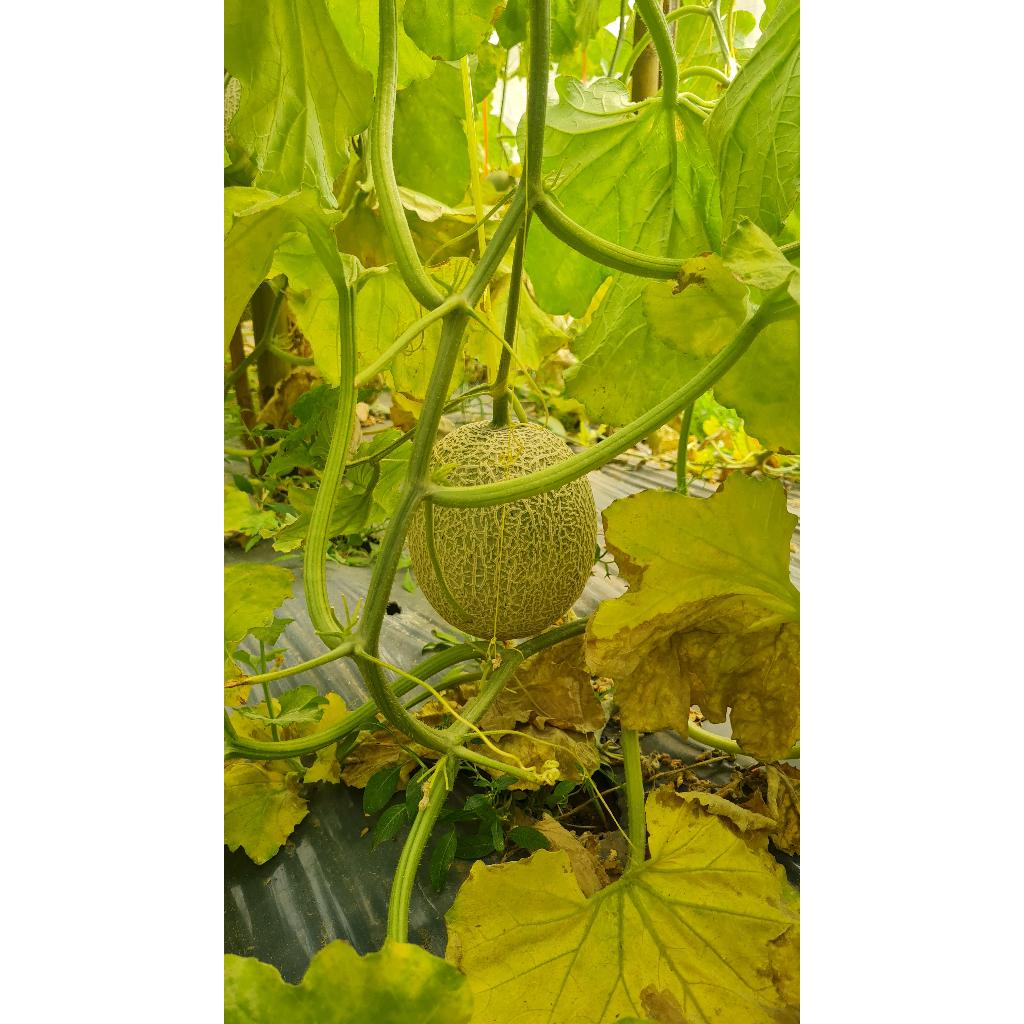melon: (408, 476, 596, 640), (432, 422, 572, 486)
